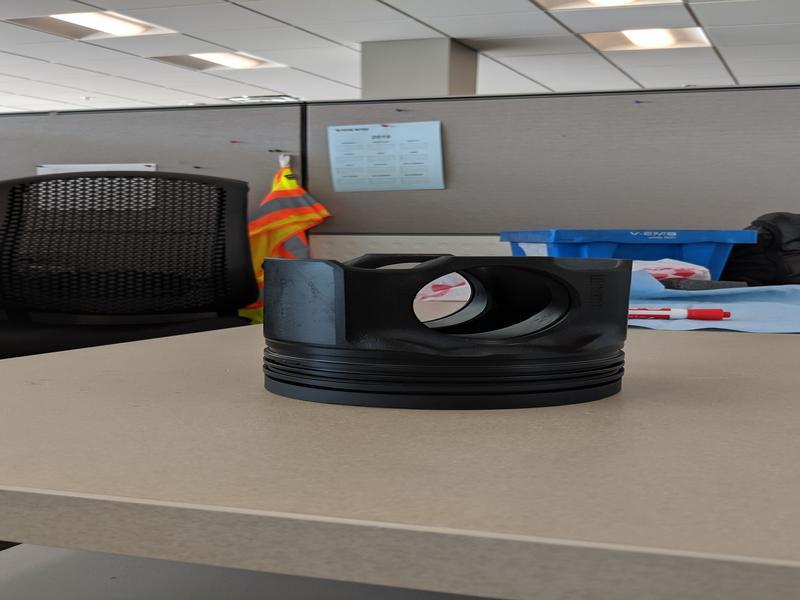piston: (257, 251, 636, 413)
